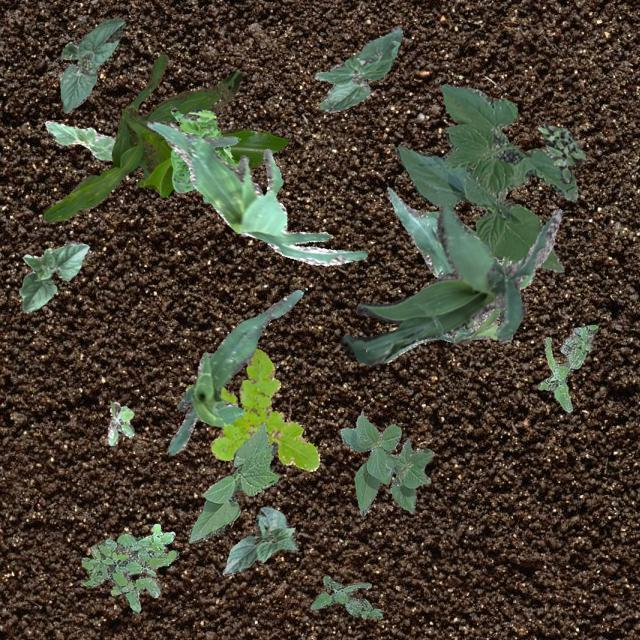crop: (43, 52, 287, 220), (340, 198, 562, 364), (394, 82, 576, 272), (146, 118, 367, 264), (382, 186, 534, 362), (168, 288, 302, 454), (188, 422, 278, 542), (340, 410, 432, 514), (314, 26, 402, 111), (59, 18, 124, 112), (222, 506, 298, 574), (18, 240, 88, 312), (43, 120, 115, 160)
weed: (184, 348, 318, 470), (80, 522, 176, 612), (170, 106, 237, 202), (536, 324, 596, 412), (309, 574, 382, 618), (536, 122, 586, 182), (106, 400, 134, 444)
